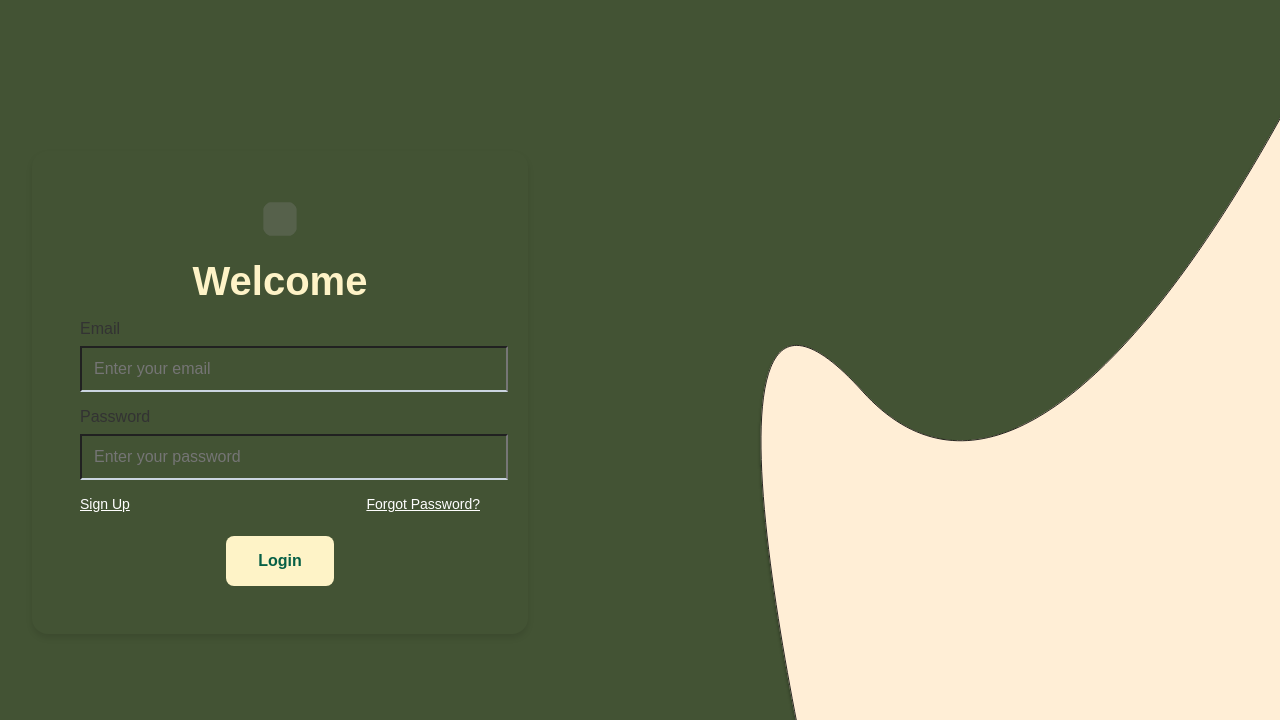
Test: Login Page › shows validation error for empty password
# Enter email but no password
Type "test@example.com" into the field with placeholder "Enter your email". click: (294, 369)
box: 80,346 -> 508,392
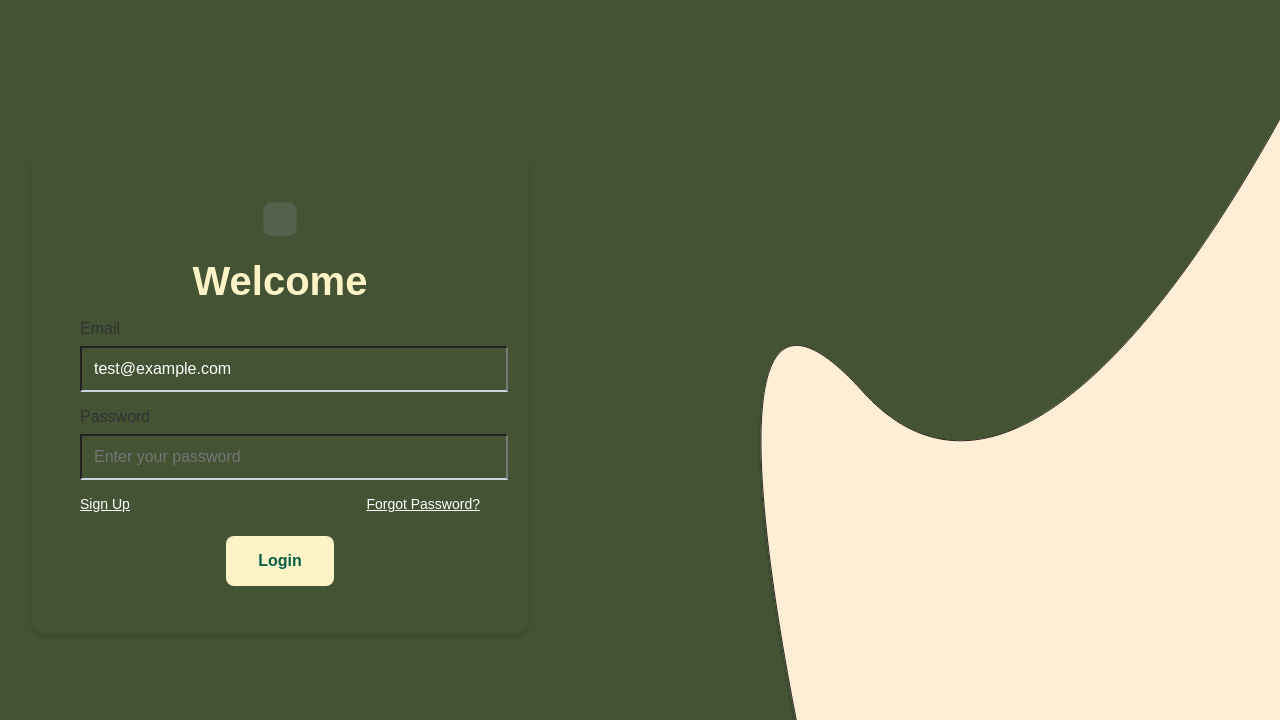
Click the button "Login". click: (280, 561)
box: 226,536 -> 334,586
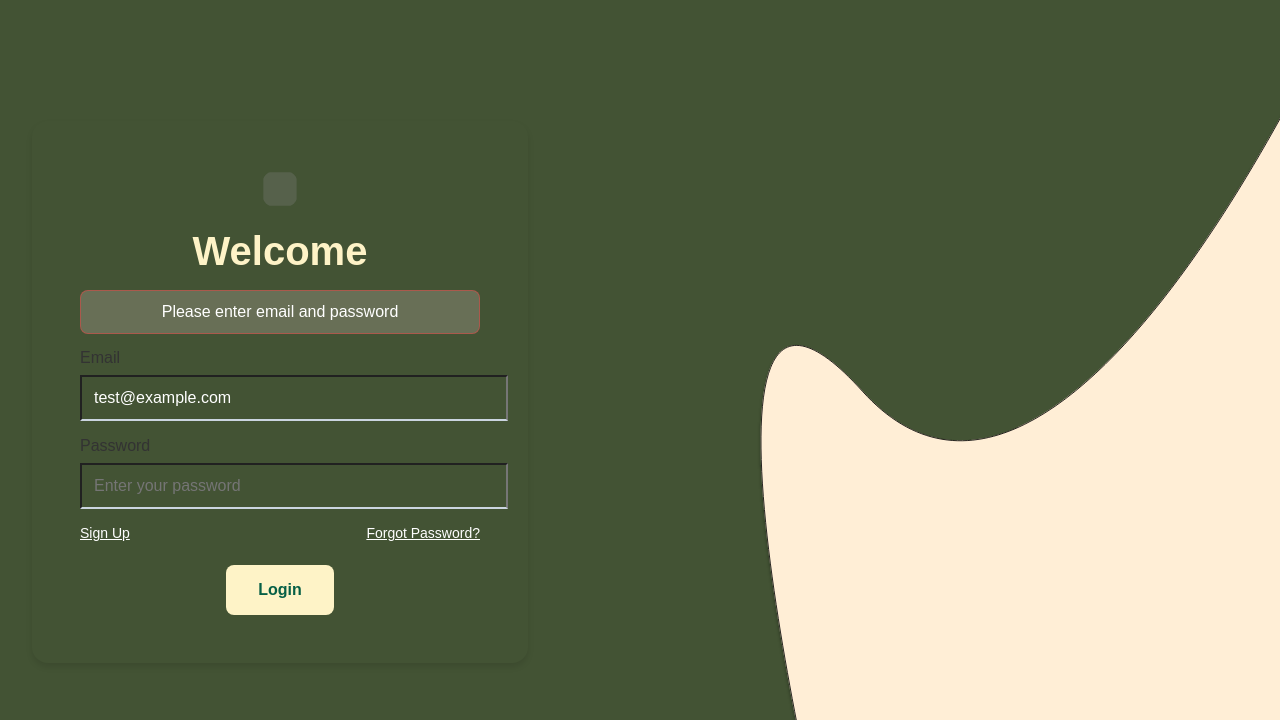
Result: the text "Please enter email and password" is shown at 80,290 -> 480,334
